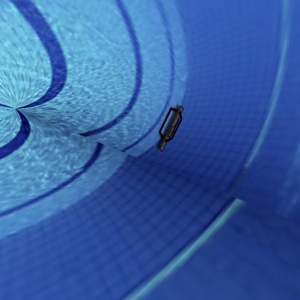submarine: (140, 90, 195, 157)
